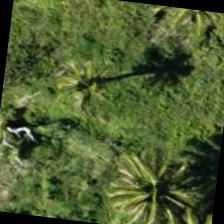Kelapa_Sawit: (29, 28, 129, 128), (106, 139, 208, 223)
